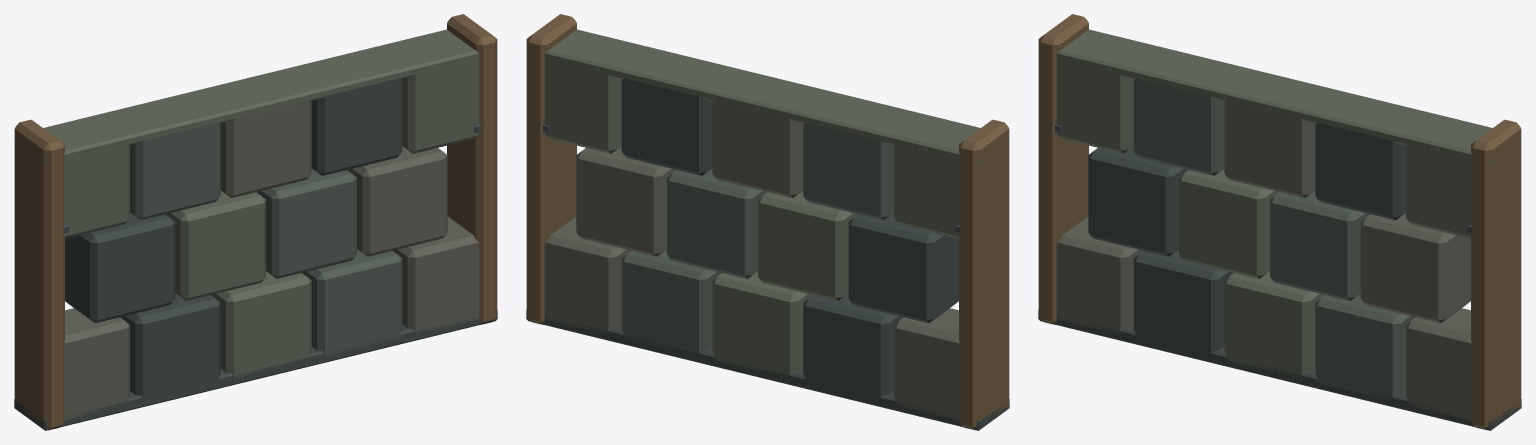
Rendered from wall.glb.
3 renders of one model, left to right at view 1: azimuth 30°, elevation 25°; view 2: azimuth 150°, elevation 25°; view 3: azimuth 330°, elevation 25°, orthographic.
Parts seen in each view (by area): view 1: Modular_stone_wall_Stone_lichen, Modular_stone_wall_Stone_shade, Modular_stone_wall_Stone_warm, Modular_stone_wall_Weathered_oak, Modular_stone_wall_Stone_sage; view 2: Modular_stone_wall_Stone_lichen, Modular_stone_wall_Stone_shade, Modular_stone_wall_Stone_warm, Modular_stone_wall_Weathered_oak, Modular_stone_wall_Stone_sage; view 3: Modular_stone_wall_Stone_lichen, Modular_stone_wall_Stone_warm, Modular_stone_wall_Stone_shade, Modular_stone_wall_Weathered_oak, Modular_stone_wall_Stone_sage.
Part boxes in pixels (x1=…): Modular_stone_wall_Stone_lichen: x1=14, y1=29, x2=497, y2=378; Modular_stone_wall_Stone_shade: x1=14, y1=78, x2=497, y2=430; Modular_stone_wall_Stone_warm: x1=64, y1=100, x2=479, y2=419; Modular_stone_wall_Weathered_oak: x1=14, y1=14, x2=497, y2=430; Modular_stone_wall_Stone_sage: x1=130, y1=122, x2=402, y2=356; Modular_stone_wall_Stone_lichen: x1=526, y1=29, x2=1009, y2=375; Modular_stone_wall_Stone_shade: x1=526, y1=78, x2=1009, y2=430; Modular_stone_wall_Stone_warm: x1=544, y1=100, x2=959, y2=419; Modular_stone_wall_Weathered_oak: x1=526, y1=14, x2=1009, y2=430; Modular_stone_wall_Stone_sage: x1=621, y1=122, x2=893, y2=355; Modular_stone_wall_Stone_lichen: x1=1038, y1=29, x2=1521, y2=376; Modular_stone_wall_Stone_warm: x1=1056, y1=100, x2=1471, y2=419; Modular_stone_wall_Stone_shade: x1=1038, y1=122, x2=1521, y2=430; Modular_stone_wall_Weathered_oak: x1=1038, y1=14, x2=1521, y2=430; Modular_stone_wall_Stone_sage: x1=1133, y1=78, x2=1415, y2=400.
Bounding box in the file's own units: 5 × 3.02 × 0.66.
